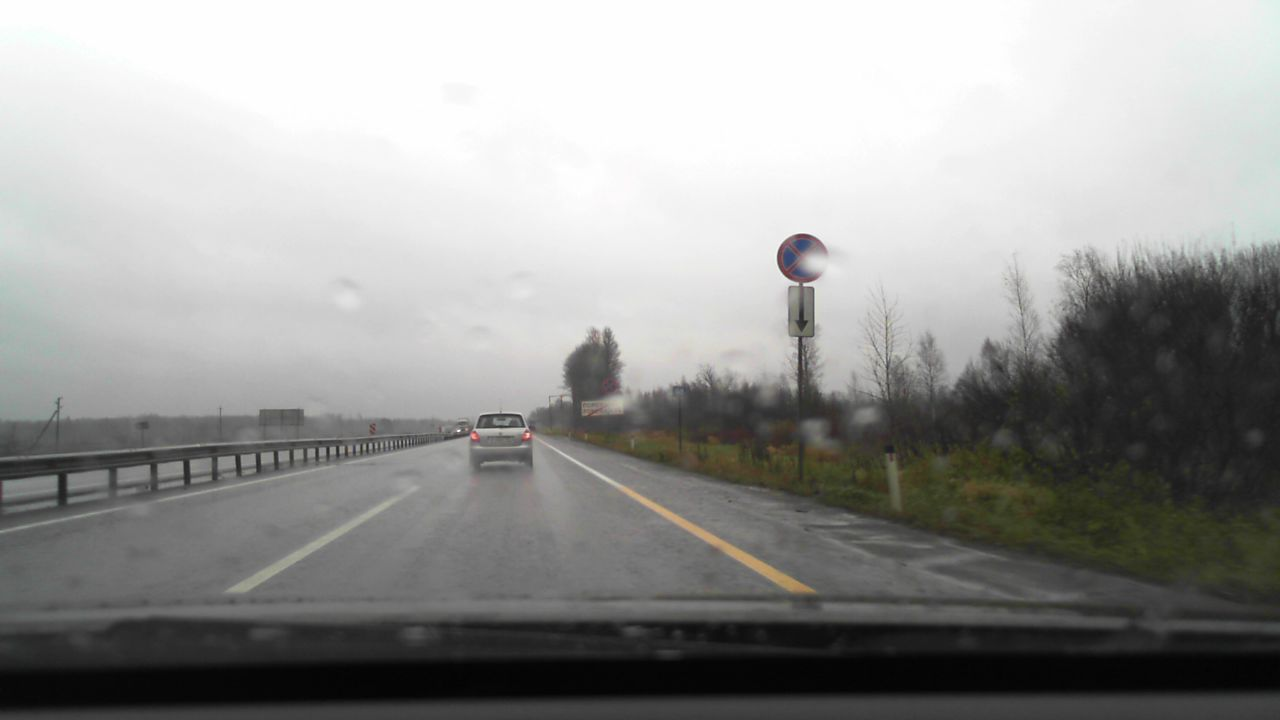No Parking: (776, 233, 828, 282)
